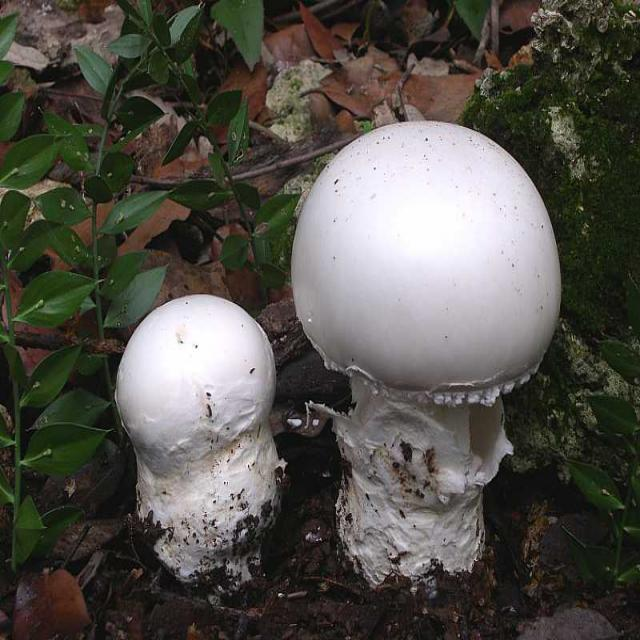Agaricus bisporus: (294, 116, 565, 589), (118, 297, 283, 592)
